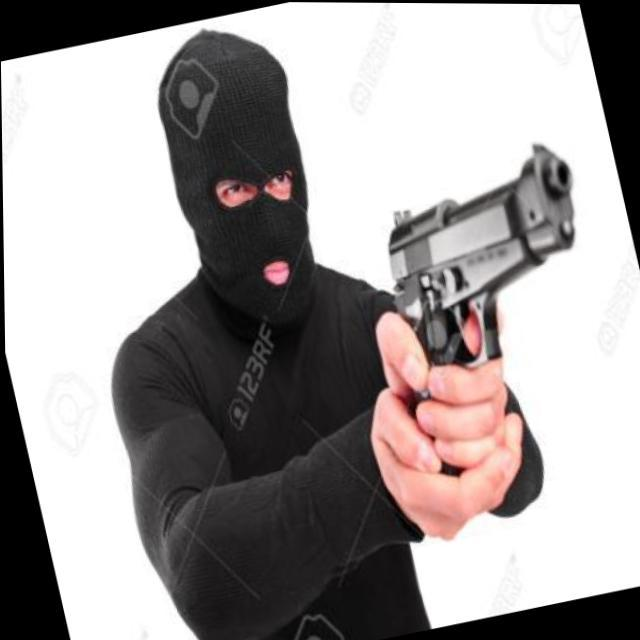weapon: (335, 127, 640, 532)
